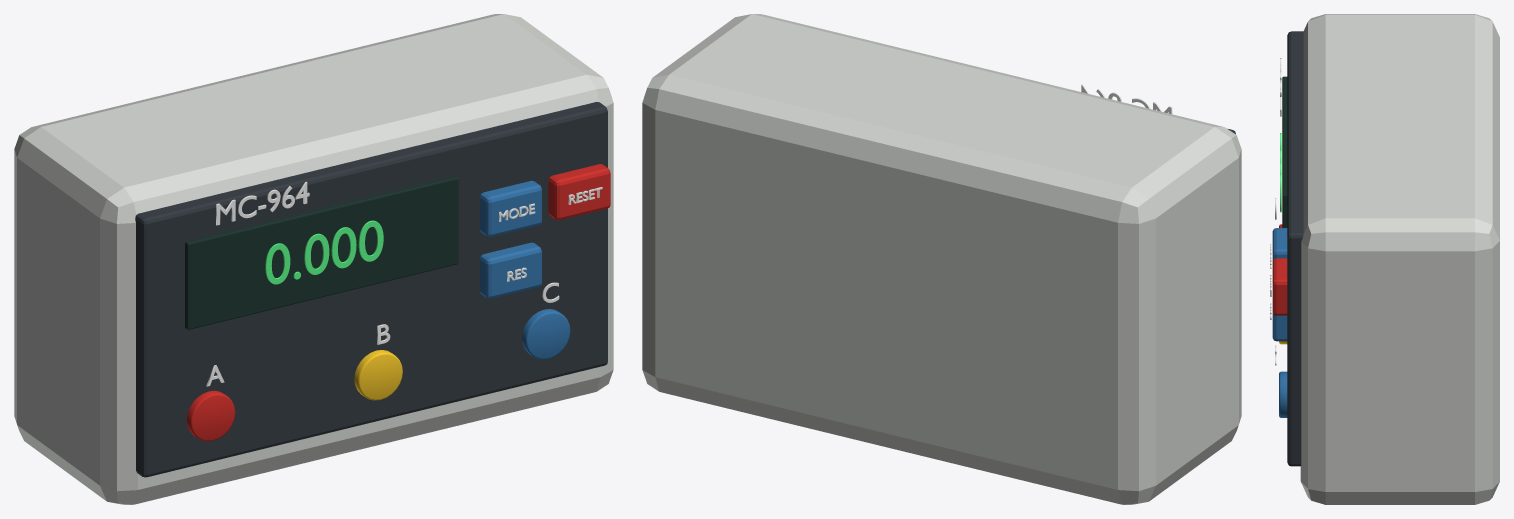
File: Digital_Timer_MC964.fbx
3 views of the same model, side by side, from view 1: azimuth 30°, elevation 25°; view 2: azimuth 150°, elevation 25°; view 3: azimuth 270°, elevation 25° (orthographic). The views are drawn at different scales.
Parts seen in each view (by area): view 1: TimerBody, FrontPanel, DisplayWindow, Button_Resolution, Button_Reset, Button_Mode, DisplayDigits, Port_B, Port_A, Port_C, ModelLabel; view 2: TimerBody; view 3: TimerBody, FrontPanel, Button_Reset, DisplayWindow, Button_Mode, Button_Resolution, Port_C.
Part boxes in pixels (x1,y1,x2,y2): TimerBody: (14,14,613,504); FrontPanel: (135,102,607,477); DisplayWindow: (185,176,458,329); Button_Resolution: (479,242,541,298); Button_Reset: (548,164,610,220); Button_Mode: (479,180,541,236); DisplayDigits: (265,220,383,284); Port_B: (354,350,402,400); Port_A: (186,390,235,441); Port_C: (522,309,570,359); ModelLabel: (216,181,309,225); TimerBody: (642,14,1241,504); TimerBody: (1300,14,1499,504); FrontPanel: (1287,31,1303,466); Button_Reset: (1272,258,1287,315); DisplayWindow: (1282,76,1287,227); Button_Mode: (1272,228,1287,260); Button_Resolution: (1272,313,1287,341); Port_C: (1279,371,1287,417).
Bounding box in the file's own units: 0.32 × 0.19 × 0.1385.
